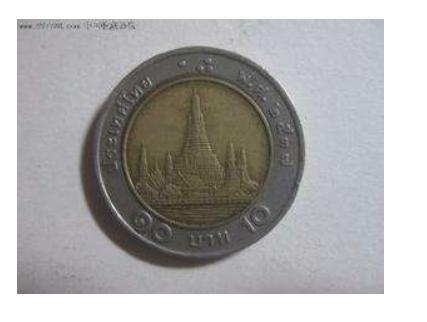Braille: (198, 52, 214, 75), (179, 53, 195, 74)
